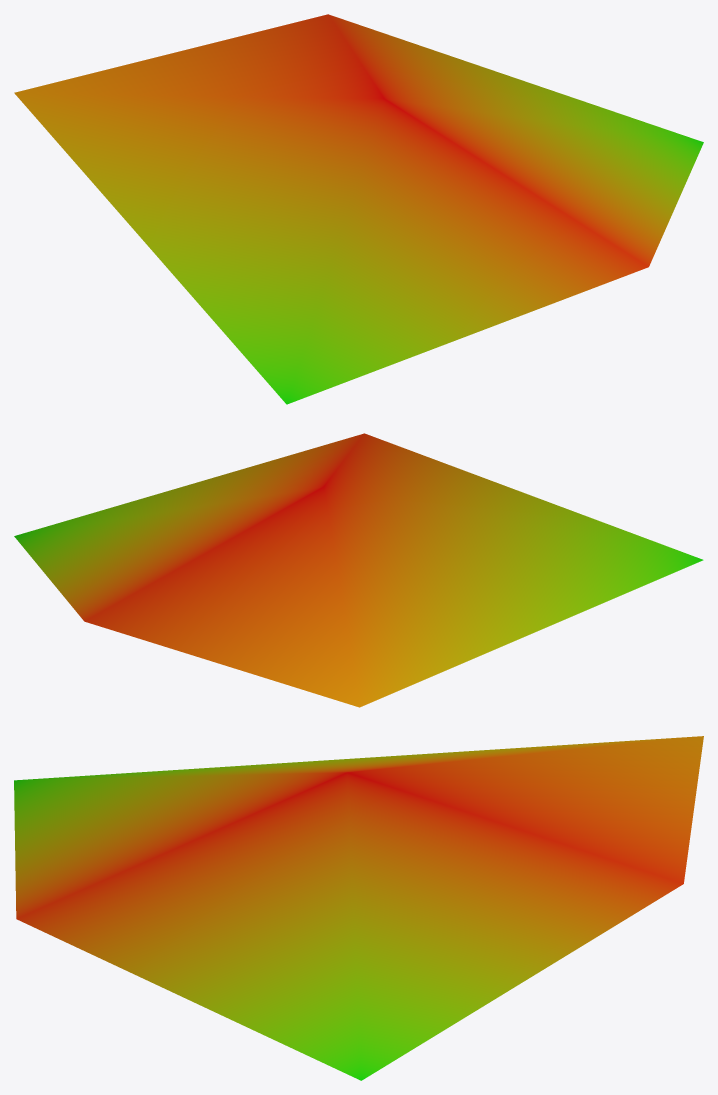
File: Var4_LOD3.fbx
3 views of the same model, one above another, from view 1: azimuth 30°, elevation 25°; view 2: azimuth 150°, elevation 25°; view 3: azimuth 270°, elevation 25° (orthographic). The views are drawn at different scales.
Parts seen in each view (by area): view 1: _94c8_Var4_LOD3; view 2: _94c8_Var4_LOD3; view 3: _94c8_Var4_LOD3.
Part boxes in pixels (box(x1,y1,x2,y2)): _94c8_Var4_LOD3: box(14, 14, 703, 404); _94c8_Var4_LOD3: box(14, 433, 703, 707); _94c8_Var4_LOD3: box(14, 736, 703, 1080).
Bounding box in the file's own units: 59.01 × 12.72 × 56.7.
